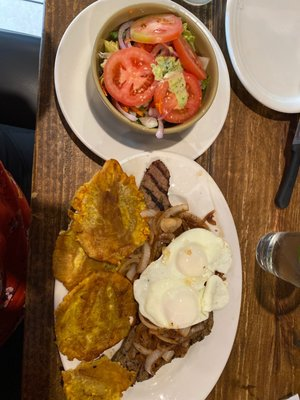curry: (152, 55, 182, 79)
pizza: (224, 0, 300, 115), (254, 231, 300, 316)
sushi: (55, 0, 226, 162), (224, 0, 300, 117)
